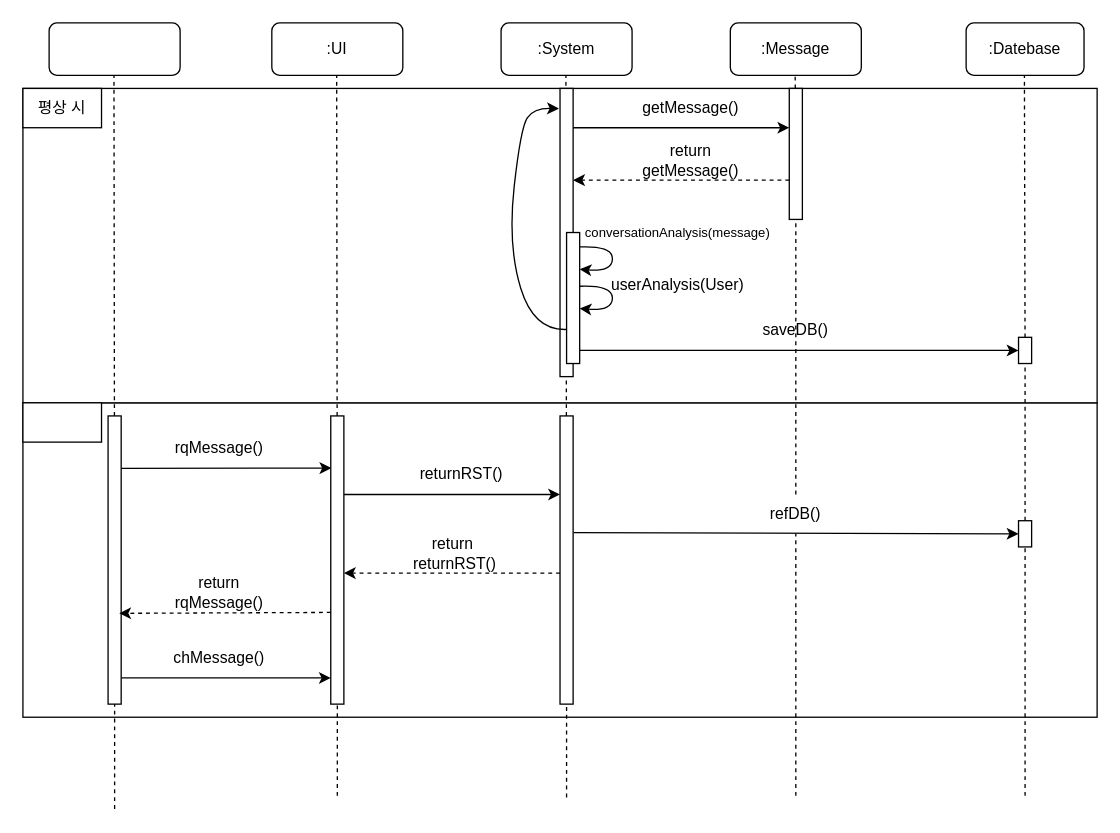
This 1120x833 diagram has some shape labels left out. Each missing label, with the centre of its shape:
":User" goes at (x=114, y=48).
"추천 문장 요청 시" goes at (x=62, y=422).
